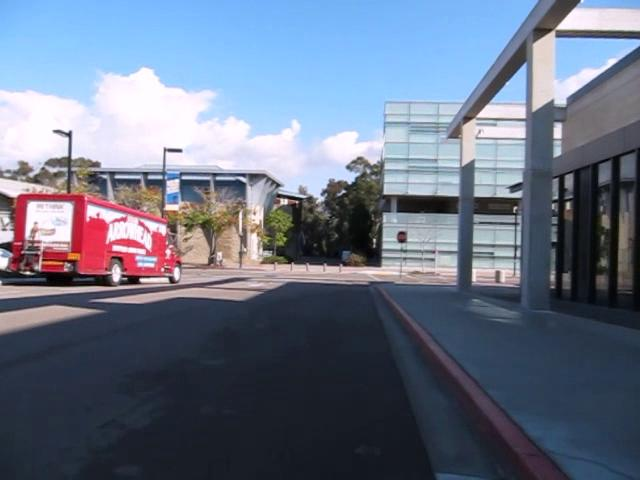stop: (395, 230, 407, 243)
